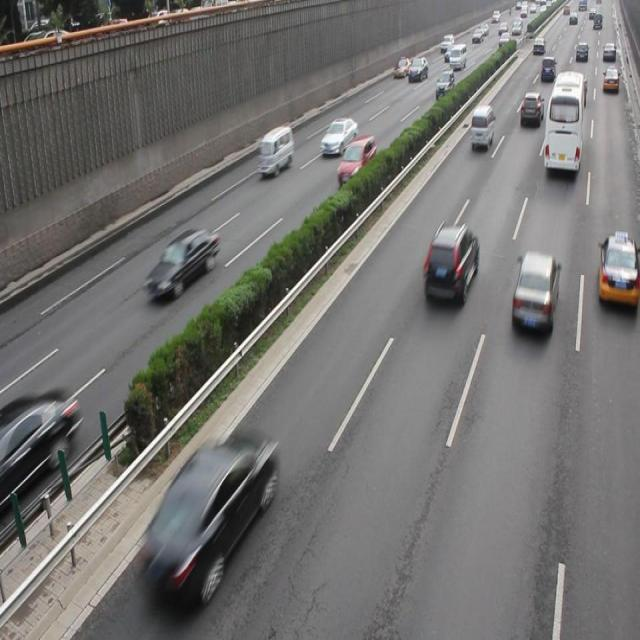car: (142, 434, 276, 589), (1, 390, 76, 500), (146, 226, 220, 299), (422, 222, 477, 302), (510, 249, 558, 335), (597, 232, 640, 310), (337, 134, 376, 184), (319, 115, 356, 155), (518, 90, 542, 128)
truck: (258, 124, 292, 178), (469, 106, 493, 150)
van: (542, 70, 583, 172)
